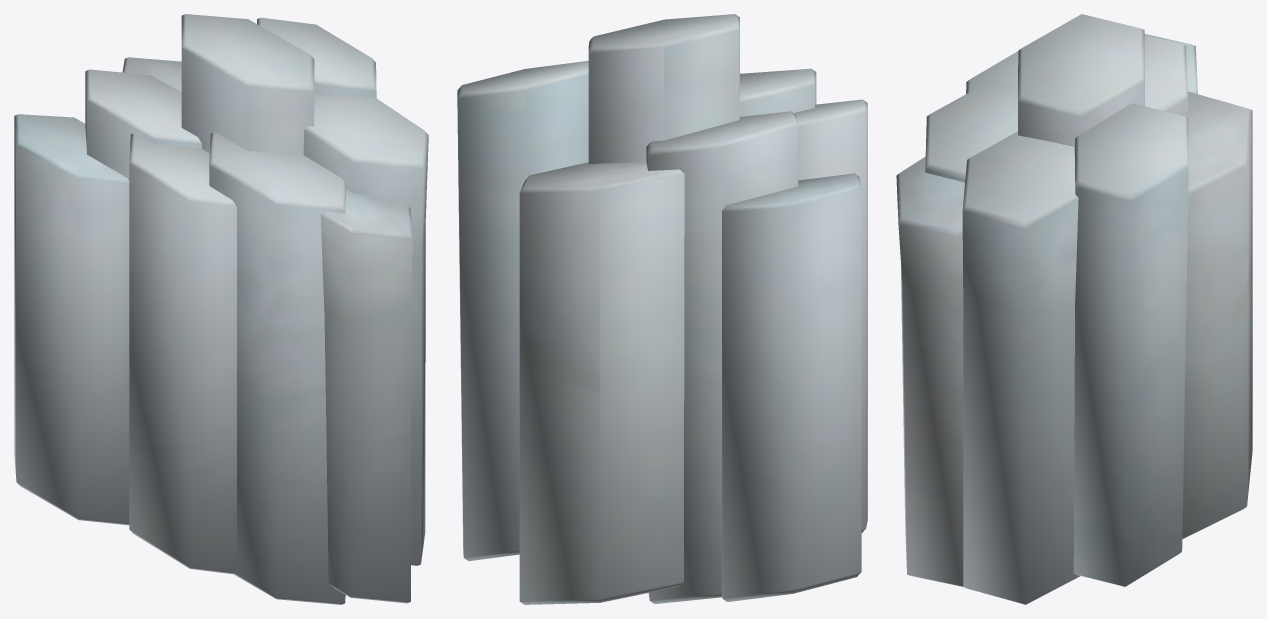
The model's file is P_RockHexic_RockSlanted06.obj.
3 views of the same model, side by side, from view 1: azimuth 30°, elevation 25°; view 2: azimuth 150°, elevation 25°; view 3: azimuth 270°, elevation 25° (orthographic). The views are drawn at different scales.
Bounding box in the file's own units: 11.43 × 16.07 × 10.36.
